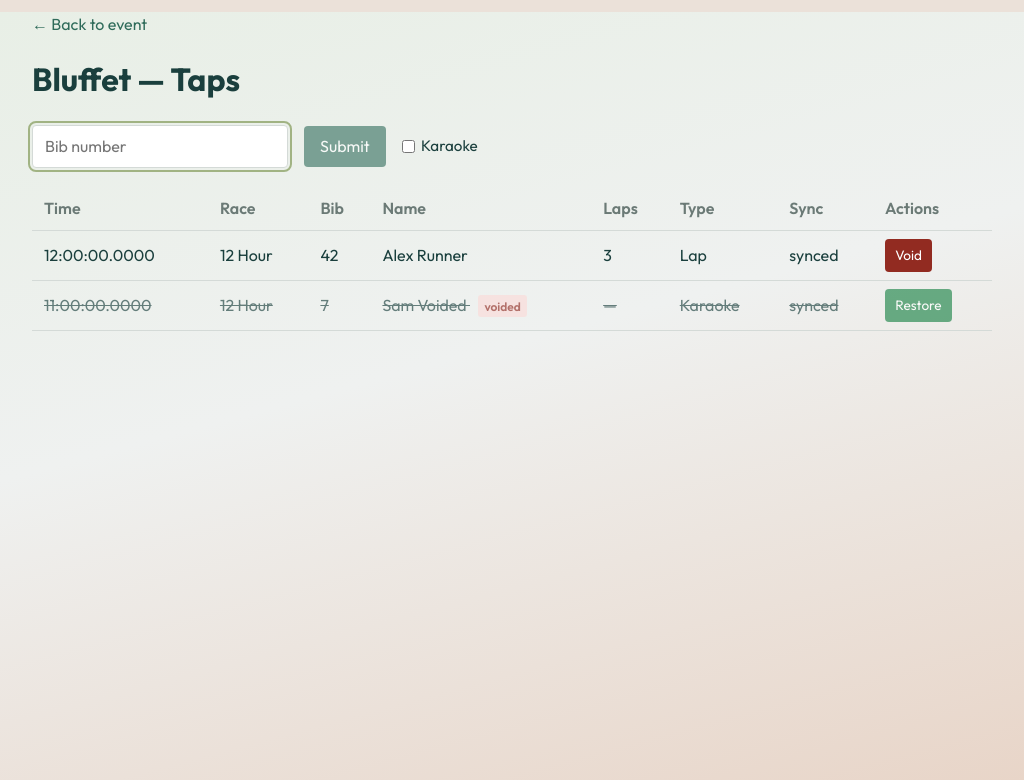
EventTaps.vue › shows a match dropdown and does not create when multiple exact matches
In the field with test id "inline-bib-input": [160, 147] box left=32, top=125, right=288, bottom=168, type "42"
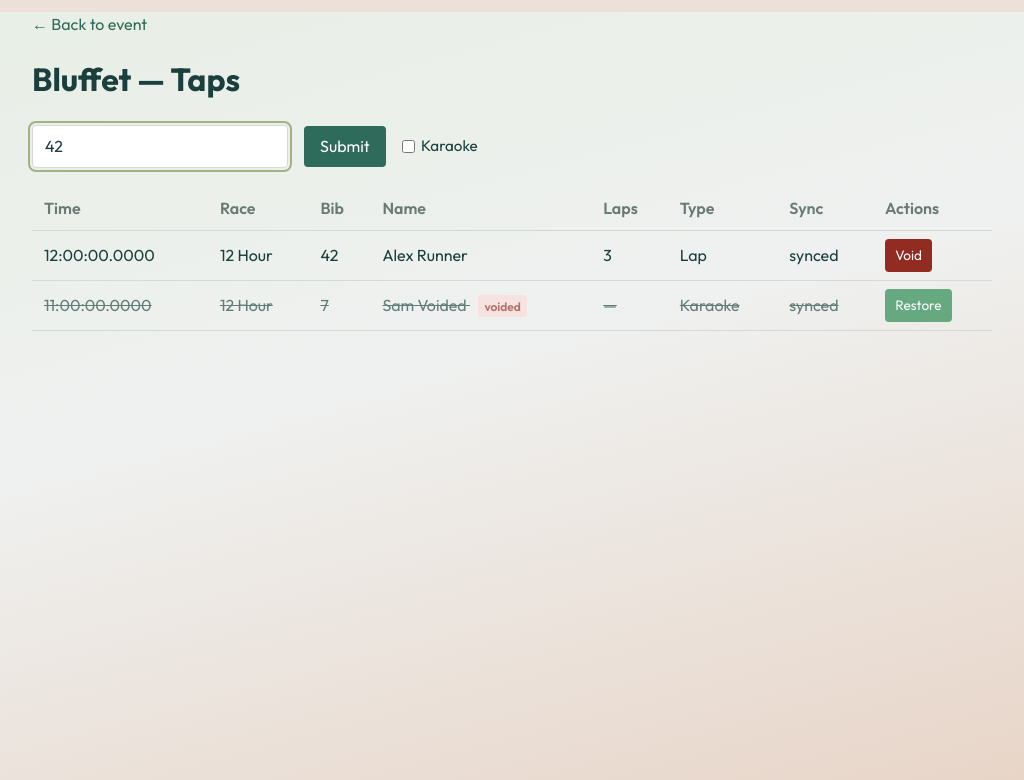
Press Enter in the field with test id "inline-bib-input", box left=32, top=125, right=288, bottom=168
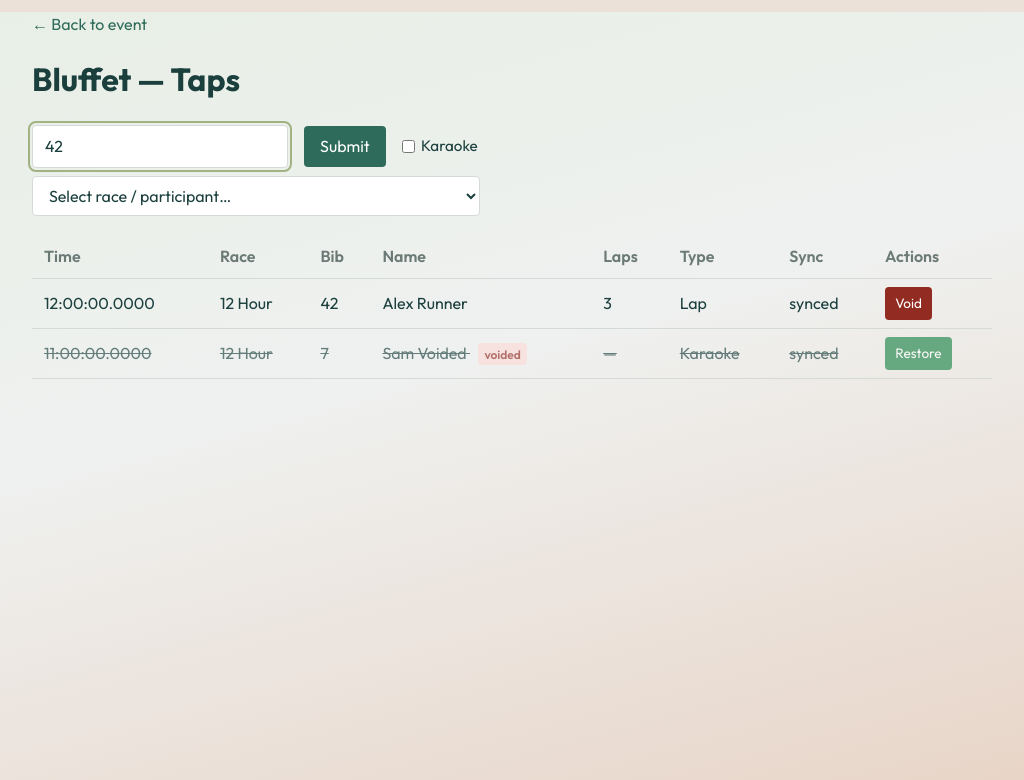
Result: the dropdown with test id "inline-bib-match-select" is shown at left=32, top=176, right=480, bottom=216
